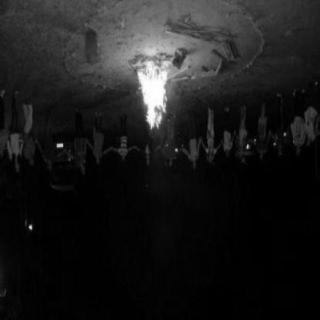Fire: (113, 51, 187, 157)
